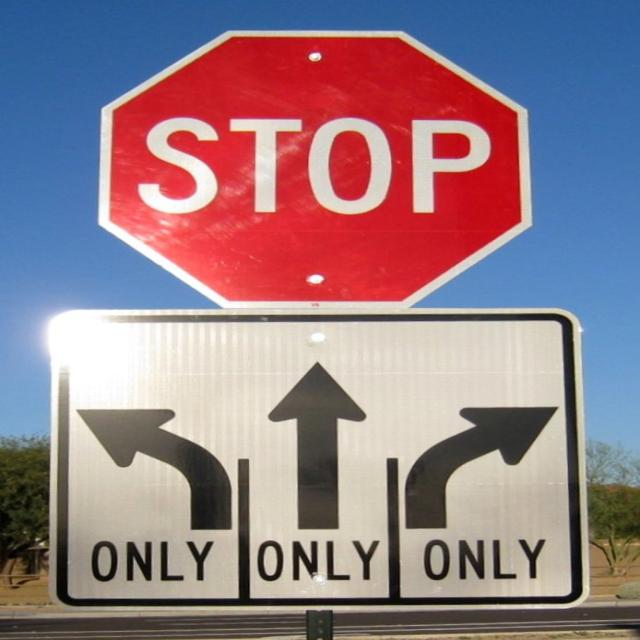Stop-sign: (99, 29, 535, 310)
